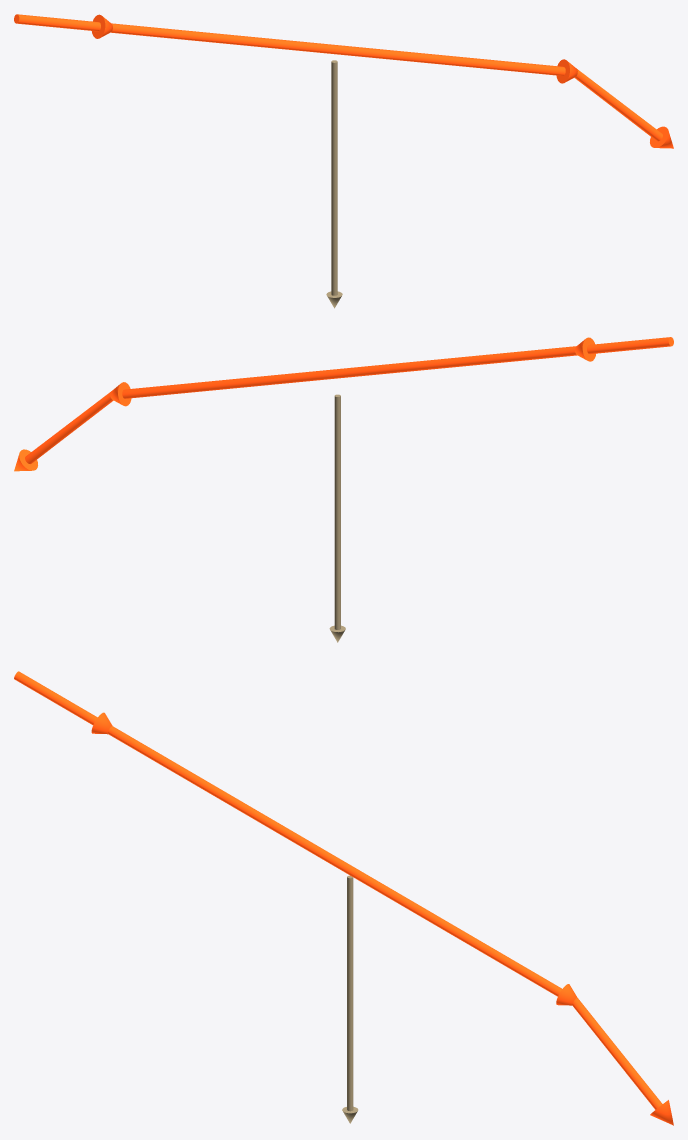
File: vibrating_screen_flow.glb
3 renders of one model, top to bottom at view 1: azimuth 30°, elevation 25°; view 2: azimuth 150°, elevation 25°; view 3: azimuth 330°, elevation 25°, orthographic.
Parts seen in each view (by area): view 1: feed, undersize; view 2: feed, undersize; view 3: feed, undersize.
Boxes of the visible parts, x1,y1,x2,y2 form: feed: (14, 14, 673, 148); undersize: (326, 60, 342, 308); feed: (14, 337, 673, 471); undersize: (329, 394, 345, 642); feed: (14, 671, 673, 1125); undersize: (342, 875, 358, 1123).
Size of the model in its own units: 2.43 by 1.33 by 0.115.
